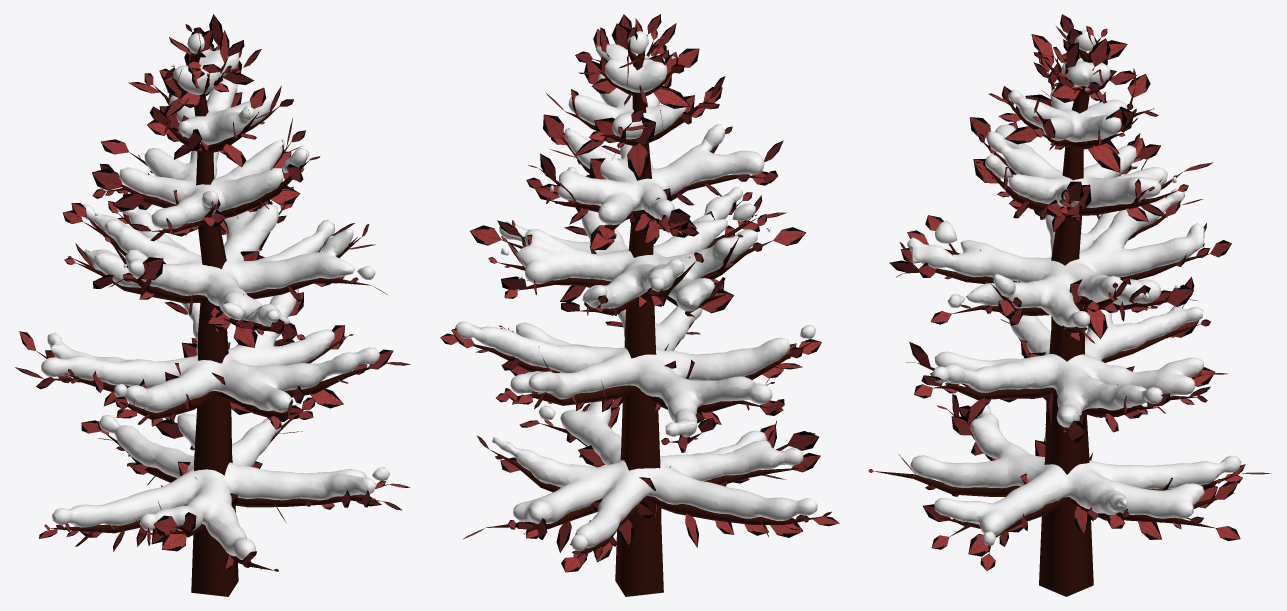
The model's file is tree2.glb.
3 renders of one model, left to right at view 1: azimuth 30°, elevation 25°; view 2: azimuth 150°, elevation 25°; view 3: azimuth 270°, elevation 25°, orthographic. The views are drawn at different scales.
Visible parts, largest first — view 1: SnowBall.001, leaves, tree; view 2: SnowBall.001, leaves, tree; view 3: SnowBall.001, leaves, tree.
Boxes of the visible parts, x1=… form: SnowBall.001: x1=41, y1=33, x2=389, y2=560; leaves: x1=15, y1=14, x2=410, y2=571; tree: x1=36, y1=32, x2=388, y2=596; SnowBall.001: x1=455, y1=31, x2=817, y2=551; leaves: x1=440, y1=14, x2=839, y2=572; tree: x1=473, y1=34, x2=821, y2=596; SnowBall.001: x1=907, y1=30, x2=1241, y2=545; leaves: x1=868, y1=14, x2=1271, y2=570; tree: x1=874, y1=36, x2=1233, y2=596.
Bounding box in the file's own units: 3.27 × 5.11 × 3.33.
3 materials, 1 textured.
